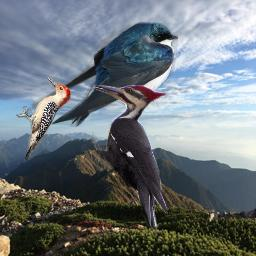Swallow: (32, 21, 178, 127)
Woodpecker: (92, 85, 168, 231), (16, 77, 72, 160)
